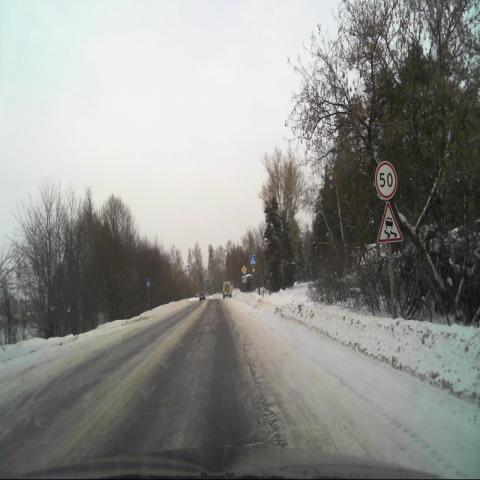1_15: (377, 200, 399, 243)
